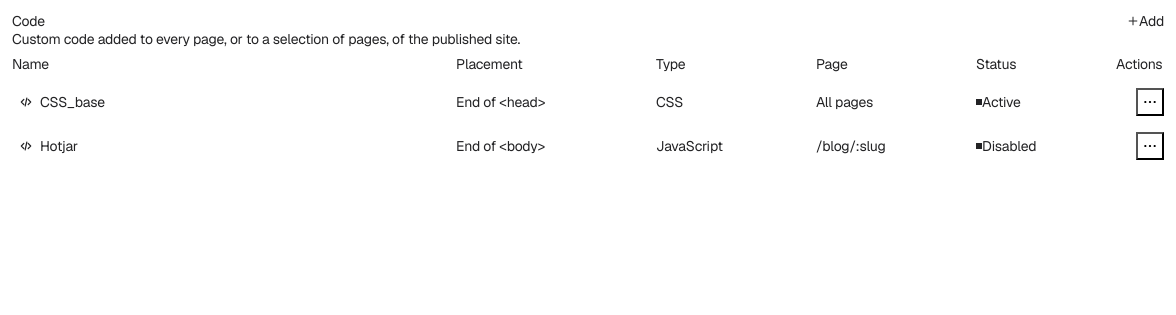
Test: CodeScreen › échec du serveur : toast d’erreur et état « failed » de la Top bar
What coordinates should you click on to do the following:
click the button named "Actions for Hotjar"
I would click on:
 (1150, 146)
Its box is [1136,132,1164,160].
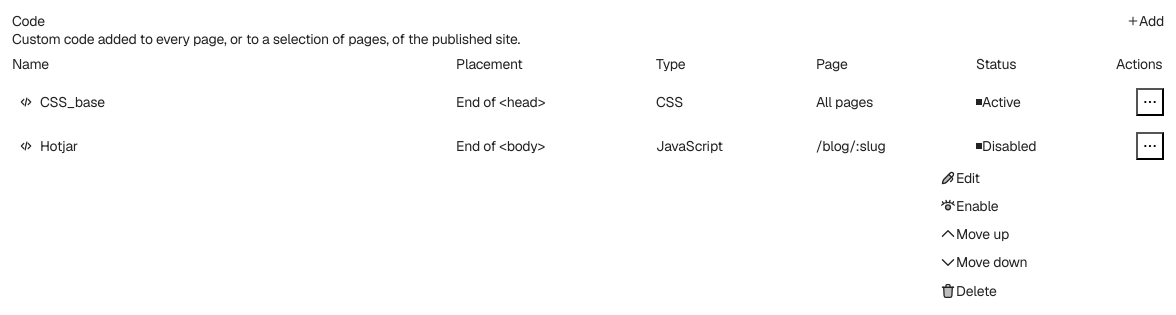
What coordinates should you click on to do the following:
click the menu item "Move up"
I would click on:
 (975, 234)
Its box is [940,225,1009,243].
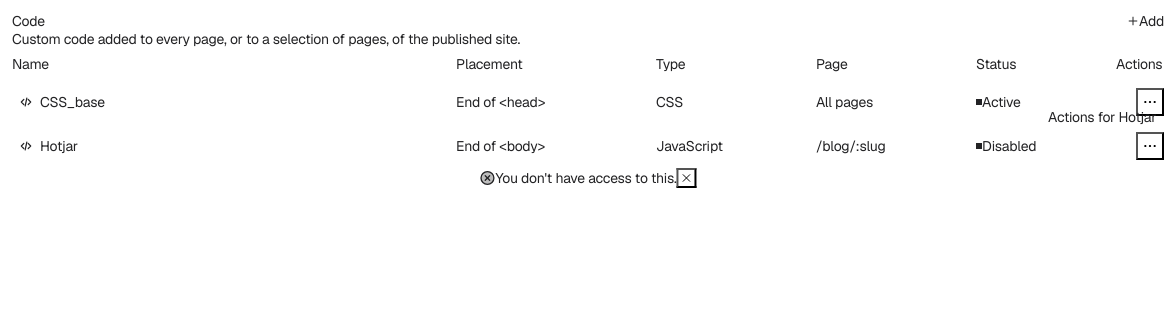
Expected: the text "You don't have access to this." is shown, [496,169,677,187]
